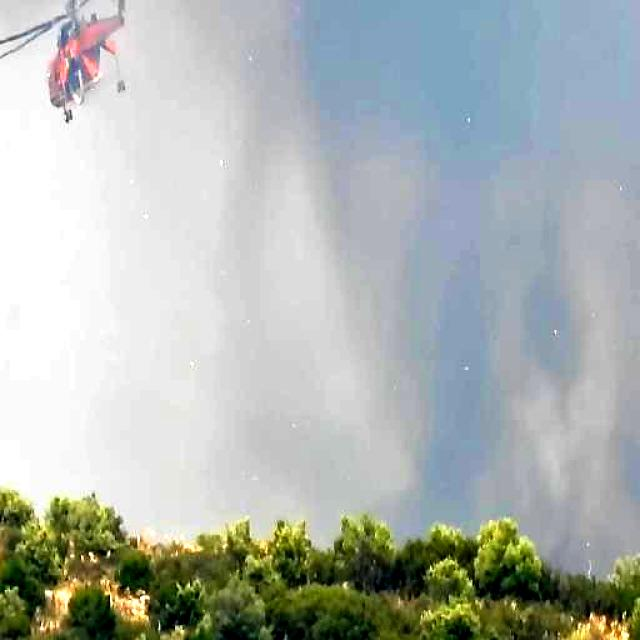drone: (0, 0, 162, 172)
